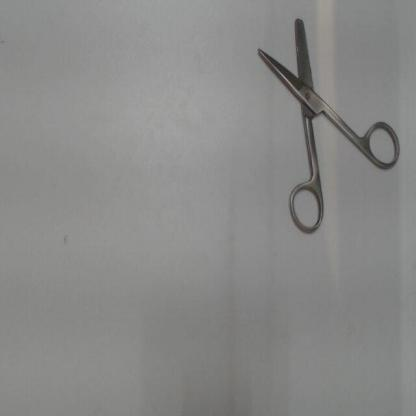Dressing Scissors: (249, 6, 406, 244)
